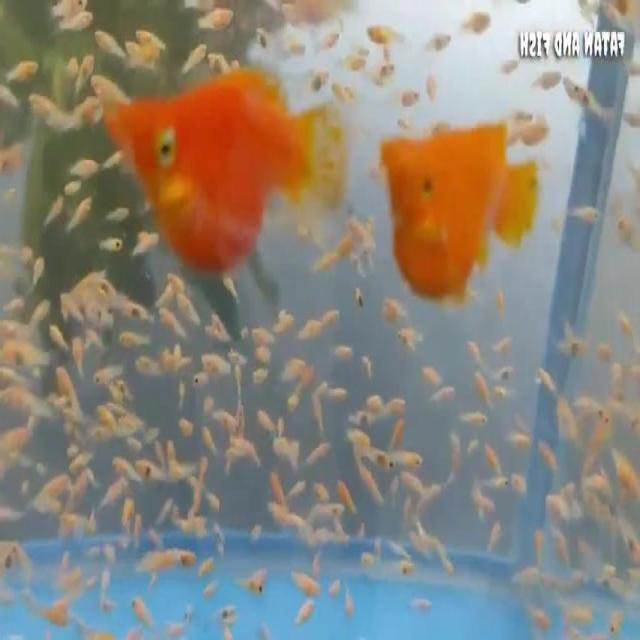PlatyFish: (98, 54, 350, 286), (375, 114, 543, 309)
